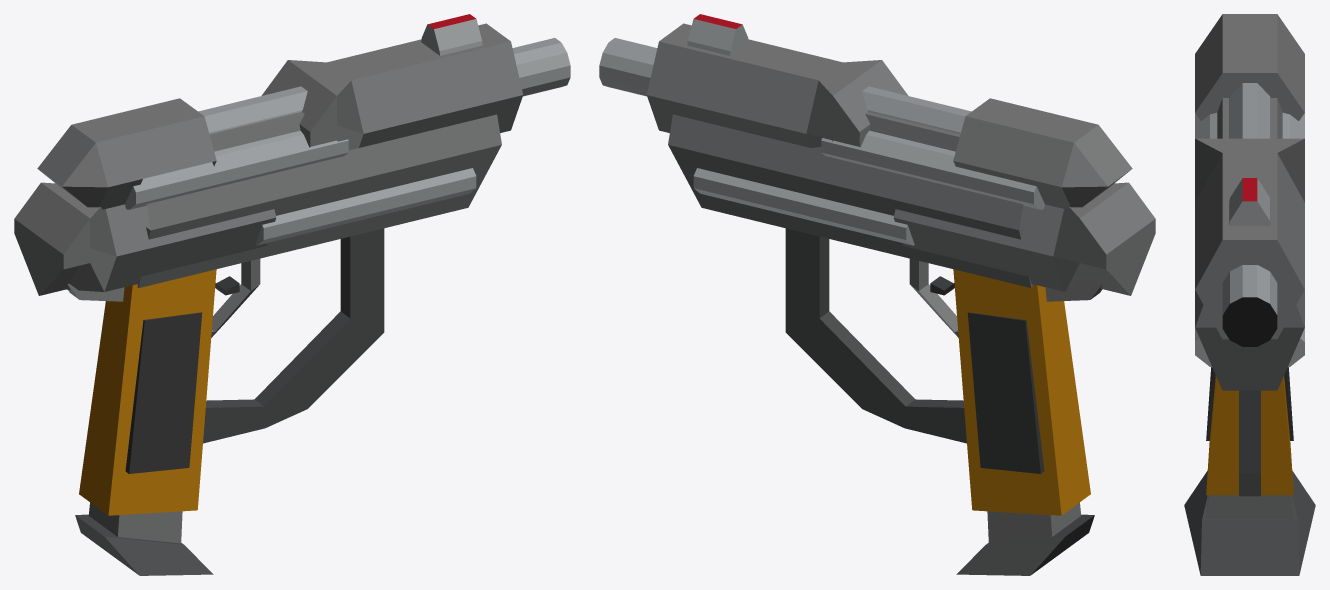
Rendered from SCIFIPistol.obj.
3 renders of one model, left to right at view 1: azimuth 30°, elevation 25°; view 2: azimuth 150°, elevation 25°; view 3: azimuth 270°, elevation 25°, orthographic. The views are drawn at different scales.
Parts seen in each view (by area): view 1: cuboid, tube; view 2: cuboid, tube; view 3: cuboid, tube.
Part boxes in pixels (x1,y1,x2,y2): cuboid: (14, 23, 523, 575); tube: (125, 14, 570, 245); cuboid: (646, 23, 1155, 575); tube: (599, 14, 1044, 245); cuboid: (1184, 14, 1315, 575); tube: (1195, 83, 1304, 367).
Size of the model in its own units: 0.3812 by 0.332 by 0.075.
Materials: 1 (1 with a texture image).
